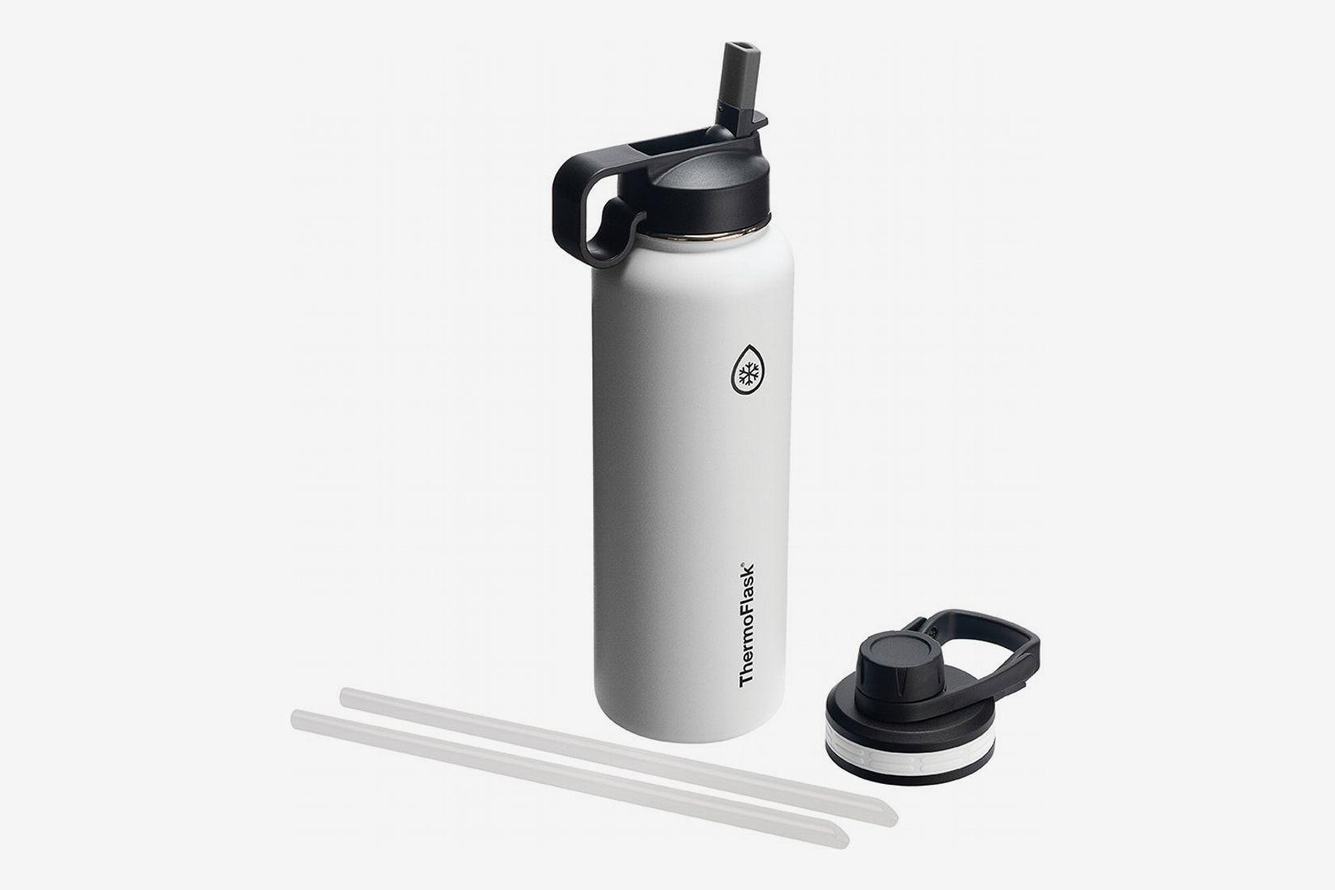gym bottle: (553, 35, 803, 744)
